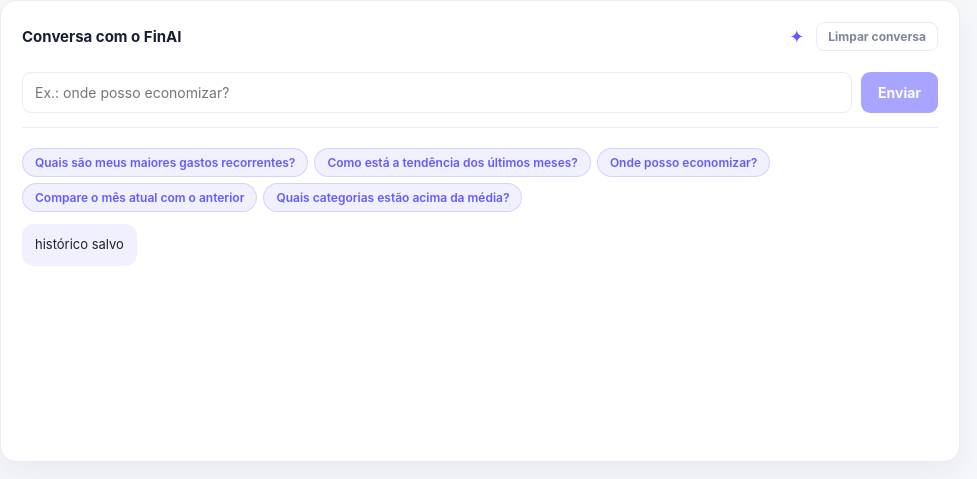
Test case: AssistantPanel — auto-save com debounce › descarrega (flush) alteração pendente no unmount sem perda
The width and height of the screenshot is (977, 479).
Expected: the text "histórico salvo" is shown, x1=35 y1=236 x2=124 y2=252
Type "pergunta pendente" into the field named "Mensagem para o assistente". click: coordinates (437, 92)
box: x1=22 y1=72 x2=852 y2=113
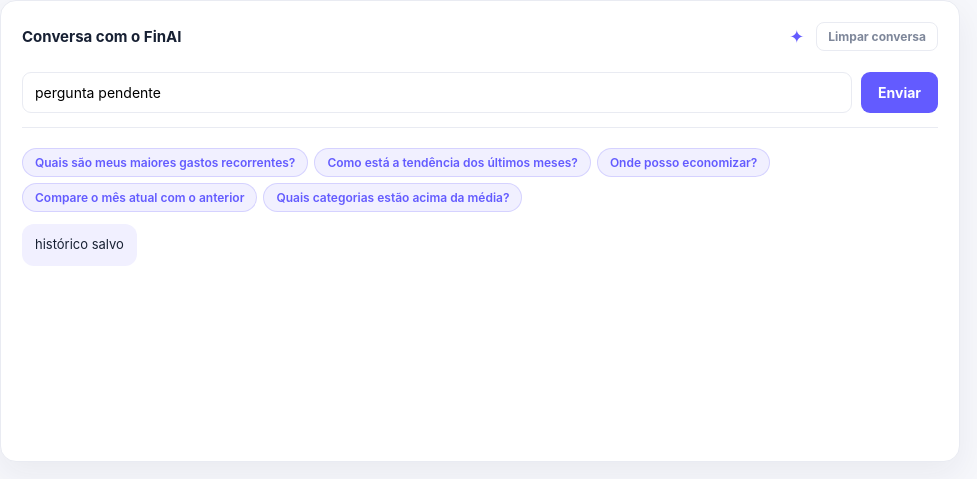
Click the button "Enviar". click: coordinates (900, 92)
box: x1=861 y1=72 x2=938 y2=113
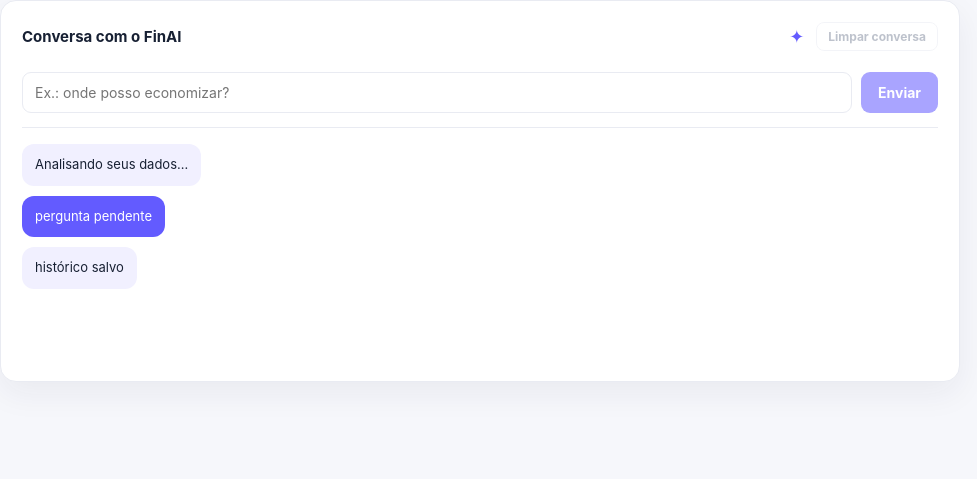
Expected: the text "pergunta pendente" is shown, x1=35 y1=208 x2=152 y2=224
